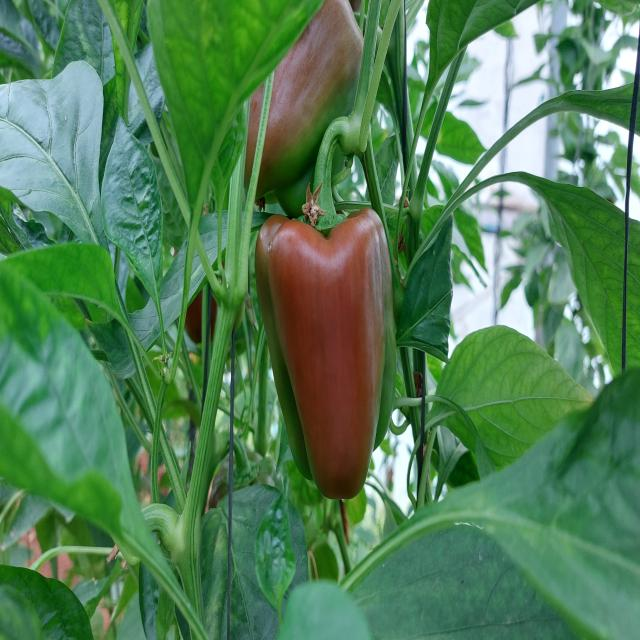BrownishRed--Can-be-Harvested: (264, 211, 425, 499), (212, 12, 370, 155)
